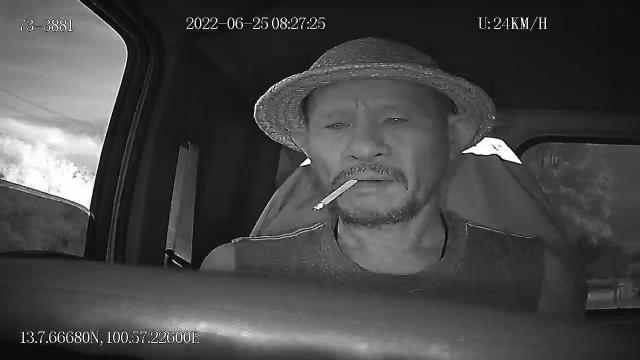SafeDriving: (375, 106, 416, 131), (317, 111, 356, 134)
Smoking: (312, 175, 360, 213)
